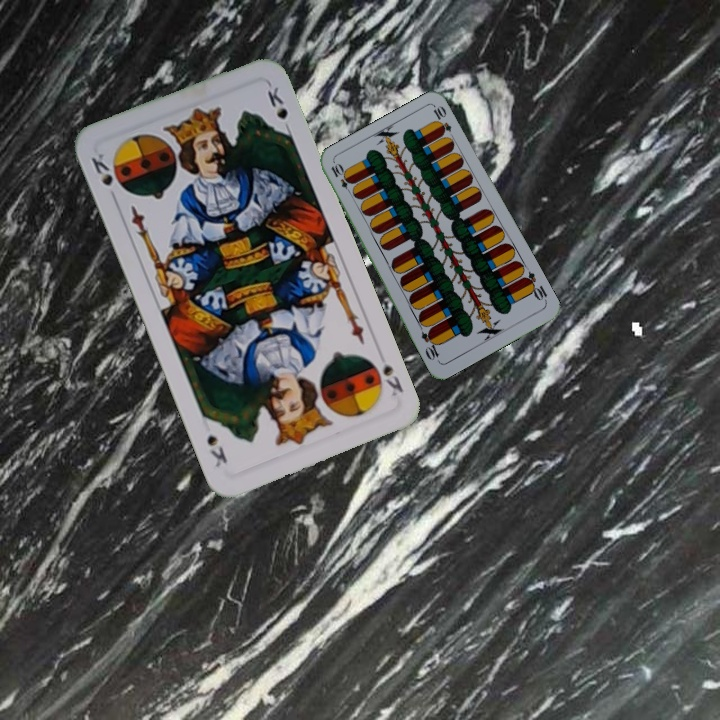E10: (519, 268, 550, 305), (327, 160, 356, 198)
SK: (365, 355, 406, 399), (87, 149, 116, 189)
